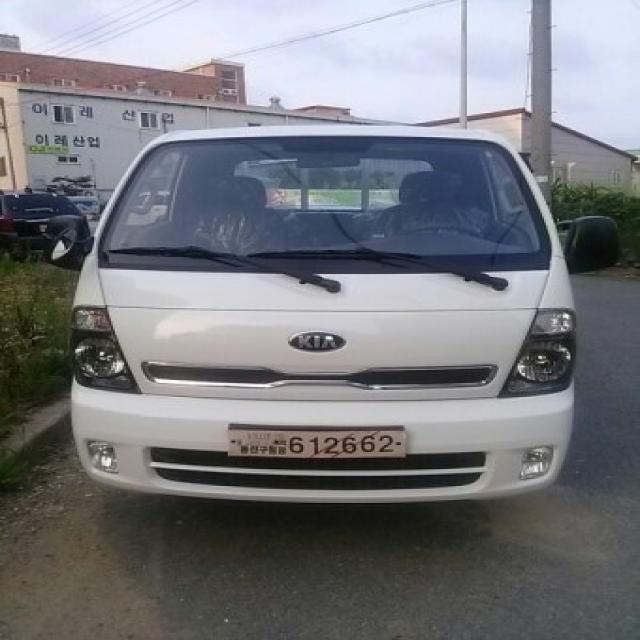car: (214, 415, 432, 474)
